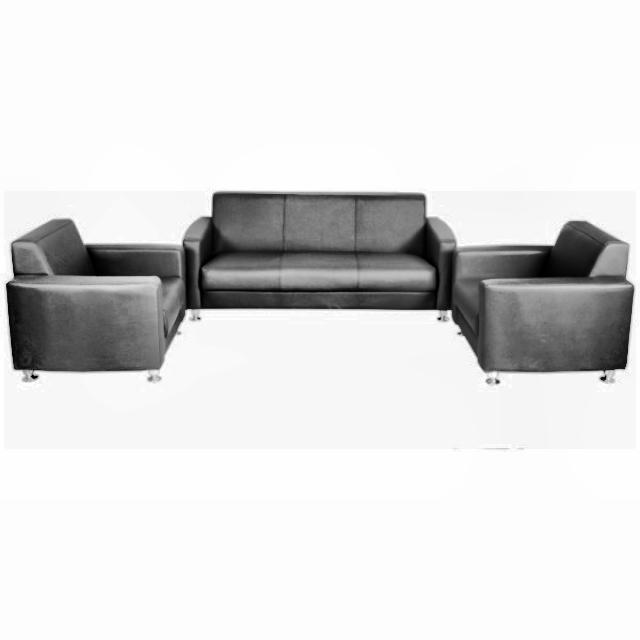sofa: (182, 189, 456, 322), (450, 219, 635, 385), (4, 216, 186, 383)
